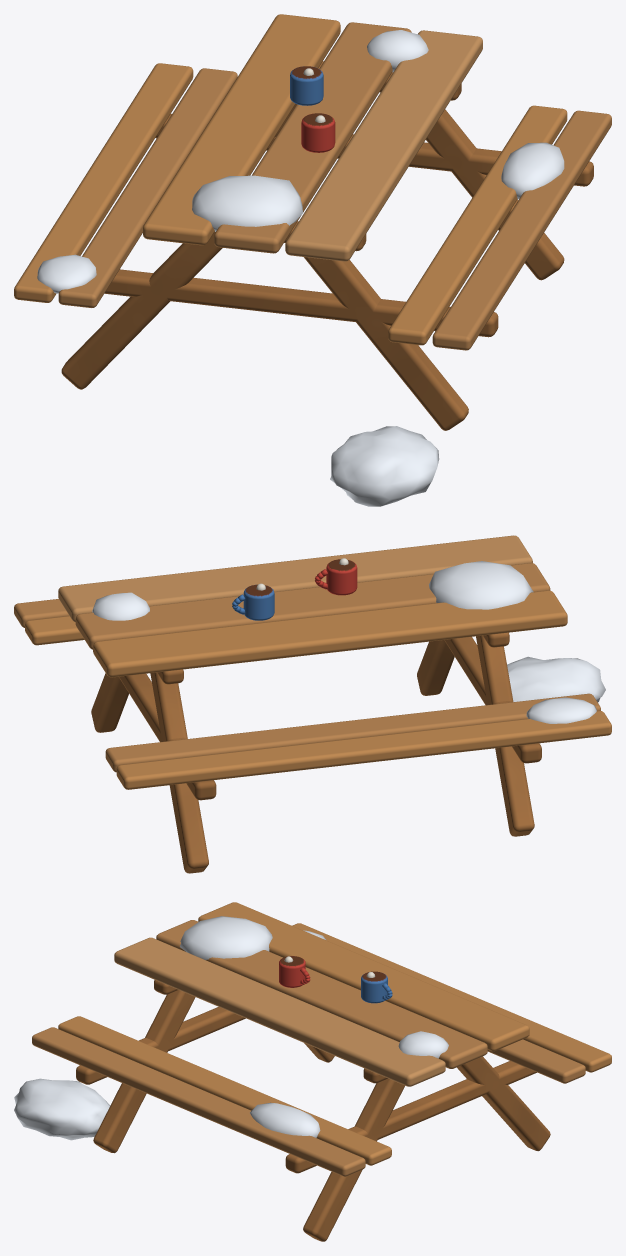
Rendered from picnic_table.glb.
The picture shows the model from 3 angles, top to bottom: view 1: azimuth 30°, elevation 25°; view 2: azimuth 150°, elevation 25°; view 3: azimuth 270°, elevation 25°; orthographic projection. The views are drawn at different scales.
Parts seen in each view (by area): view 1: bcap; view 2: bcap; view 3: bcap.
Part boxes in pixels (x1=…): bcap: x1=14, y1=14, x2=611, y2=506; bcap: x1=14, y1=535, x2=611, y2=873; bcap: x1=14, y1=902, x2=611, y2=1241.
Bounding box in the file's own units: 2.35 × 0.9197 × 2.42.
Materials: 1 (1 with a texture image).
